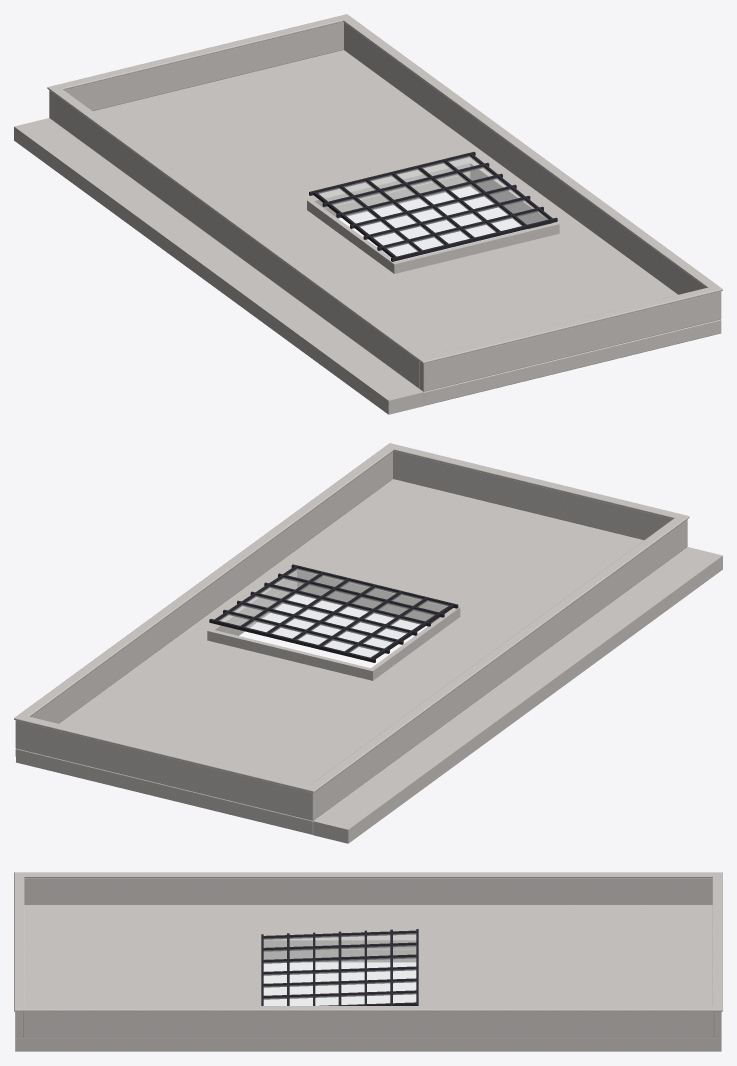
File: roof.gltf
The picture shows the model from 3 angles, top to bottom: view 1: azimuth 30°, elevation 25°; view 2: azimuth 150°, elevation 25°; view 3: azimuth 270°, elevation 25°; orthographic projection. The views are drawn at different scales.
Visible parts, largest first — view 1: Lime White.004, Lime White Shade.003, Glass.002, Charcoal Steel.003; view 2: Lime White.004, Lime White Shade.003, Glass.002, Charcoal Steel.003; view 3: Lime White.004, Lime White Shade.003, Glass.002, Charcoal Steel.003.
Boxes of the visible parts, <box> form: Lime White.004: <box>14,22,721,414</box>; Lime White Shade.003: <box>47,14,722,363</box>; Glass.002: <box>318,156,548,256</box>; Charcoal Steel.003: <box>309,152,557,261</box>; Lime White.004: <box>15,451,722,843</box>; Lime White Shade.003: <box>14,443,689,792</box>; Glass.002: <box>219,568,448,657</box>; Charcoal Steel.003: <box>209,564,458,662</box>; Lime White.004: <box>15,878,721,1051</box>; Lime White Shade.003: <box>14,872,722,1011</box>; Glass.002: <box>264,933,415,1005</box>; Charcoal Steel.003: <box>261,929,418,1005</box>.
Size of the model in its own units: 3.63 by 0.4663 by 7.09.
Materials: 4 (3 with a texture image).
